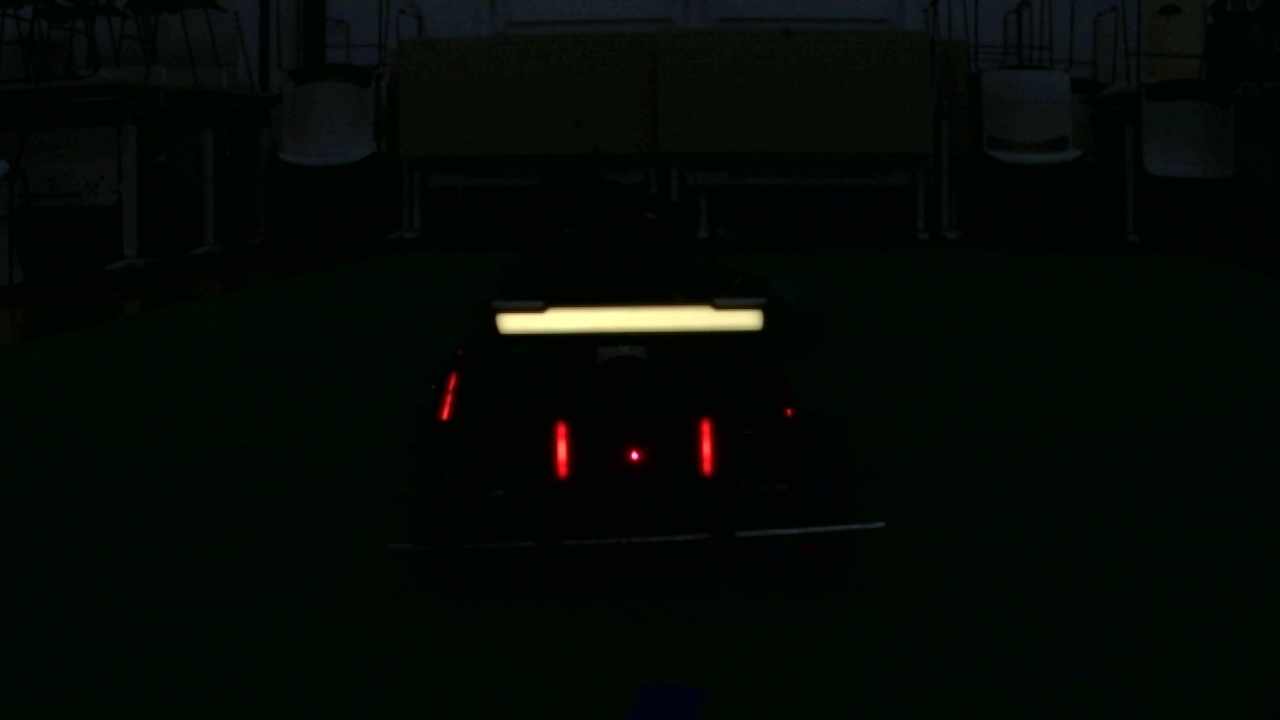lamp: (551, 413, 569, 479), (700, 413, 715, 478)
pair1: (555, 415, 719, 486)
